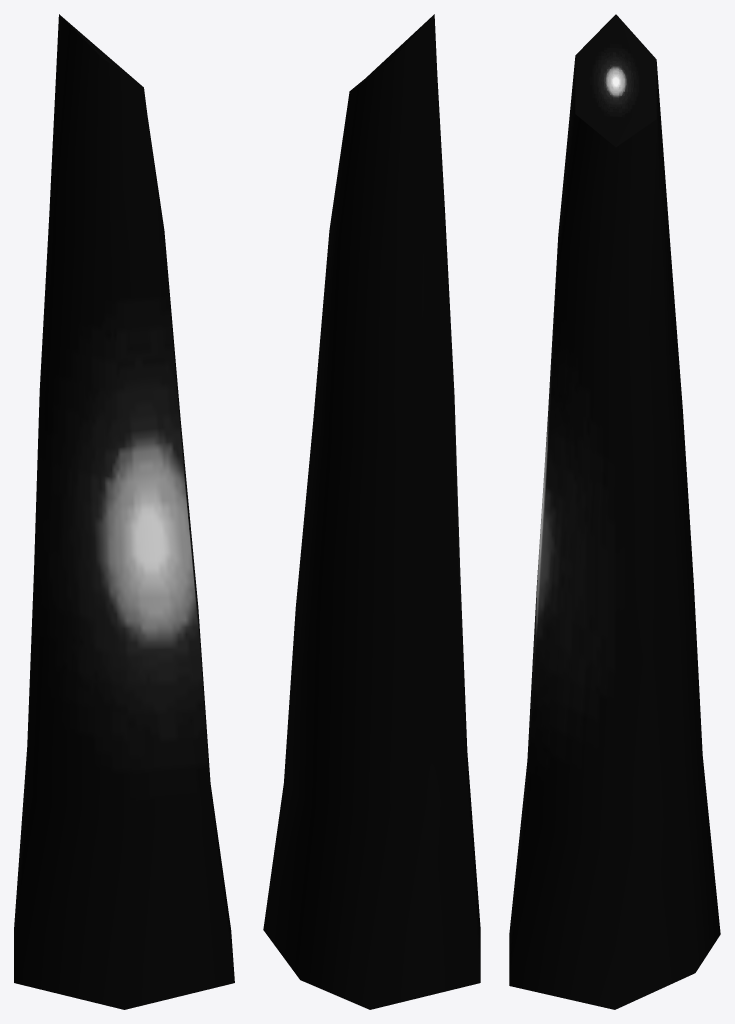
File: 0233_bingzhu_M.glb
3 renders of one model, left to right at view 1: azimuth 30°, elevation 25°; view 2: azimuth 150°, elevation 25°; view 3: azimuth 270°, elevation 25°, orthographic. The views are drawn at different scales.
Size of the model in its own units: 0.5222 by 2.2 by 0.4601.
Materials: 1 (1 with a texture image).
